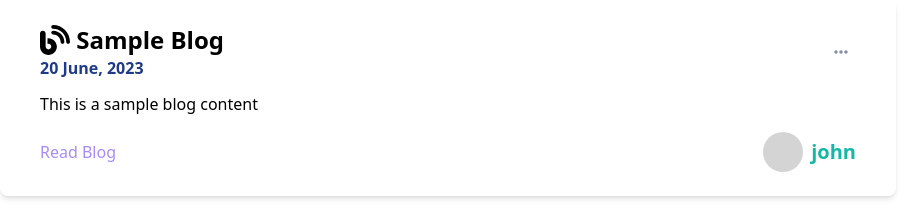
Test: displays correct formatted date on hover
Hover over the text "20 June, 2023" at (92, 68), box [40,57,144,79]
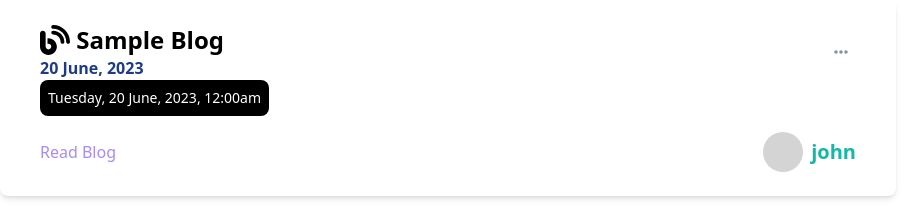
Expected: the text "Tuesday, 20 June, 2023, 12:00am" is shown, [40,80,269,116]
